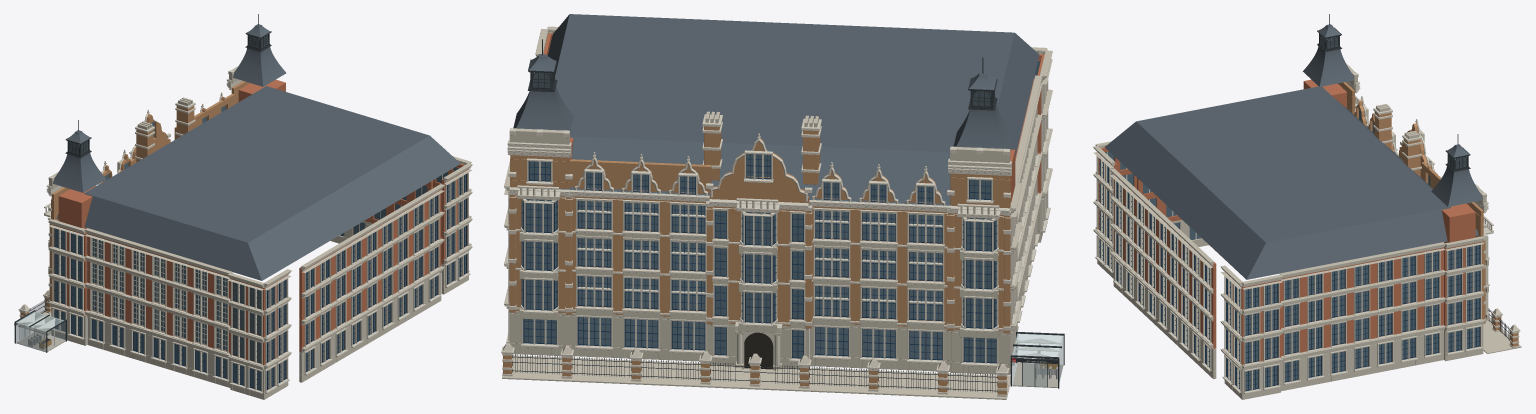
Rendered from sal-exterior-601bb36fe1ee.glb.
3 renders of one model, left to right at view 1: azimuth 30°, elevation 25°; view 2: azimuth 150°, elevation 25°; view 3: azimuth 270°, elevation 25°, orthographic. The views are drawn at different scales.
Visible parts, largest first — view 1: SAL.001; view 2: SAL.001; view 3: SAL.001.
Boxes of the visible parts, left/top/right/bottom form: SAL.001: left=14, top=14, right=472, bottom=399; SAL.001: left=501, top=14, right=1064, bottom=399; SAL.001: left=1093, top=14, right=1521, bottom=399.
Size of the model in its own units: 68.11 by 33.89 by 61.15.
